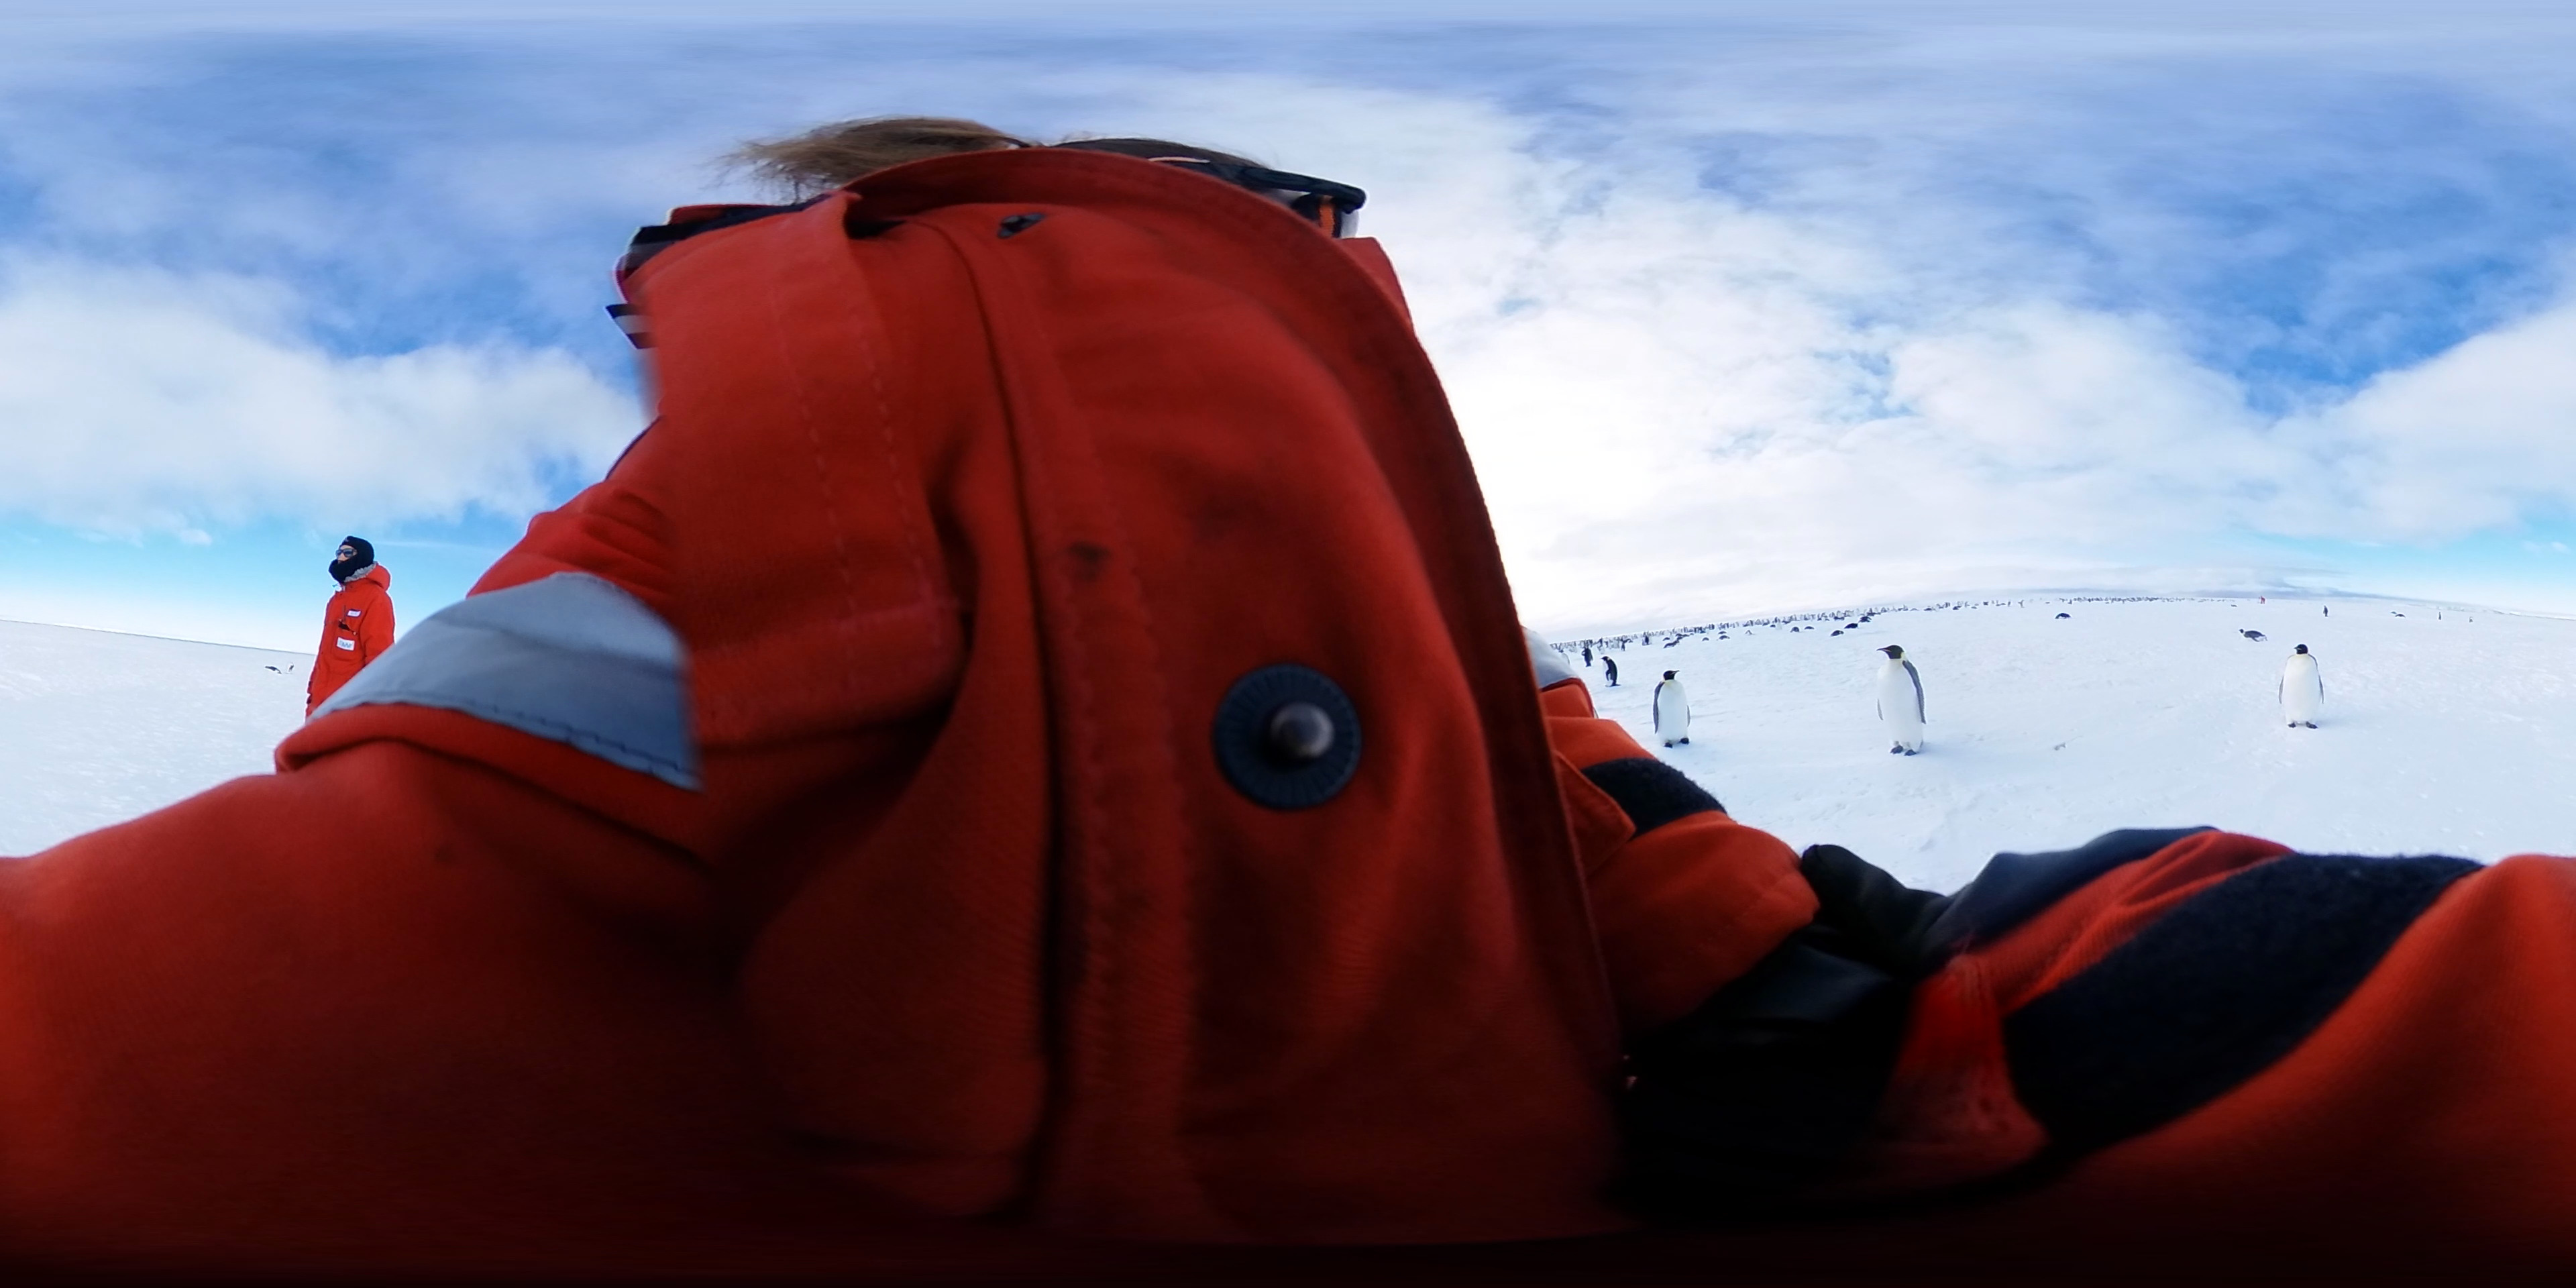adult_standing_penguin: (1873, 641, 1929, 759), (2280, 639, 2328, 731), (1646, 665, 1697, 747), (1598, 655, 1623, 690)
adult_toboggan_penguin: (2236, 624, 2275, 644), (2054, 608, 2075, 623), (263, 664, 281, 675), (1827, 629, 1845, 641)
researcher: (434, 95, 1878, 1288), (306, 522, 406, 762)
